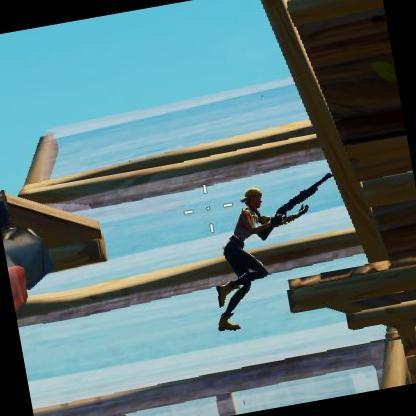person: (211, 181, 297, 284)
